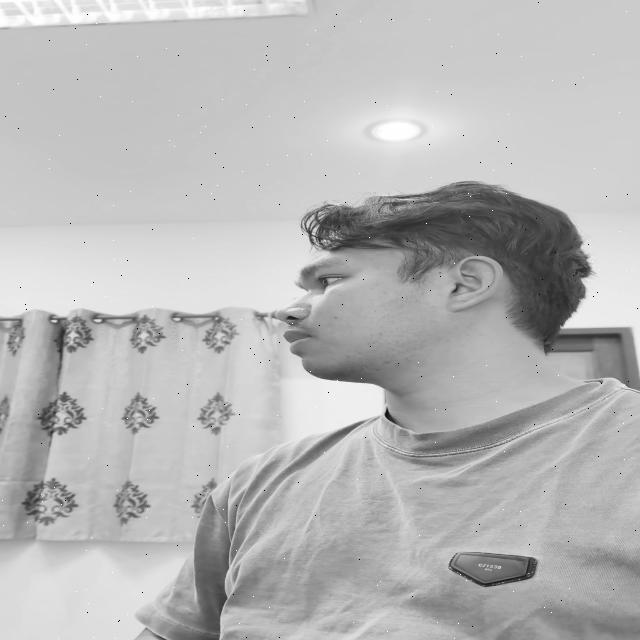ear: (447, 256, 504, 312)
